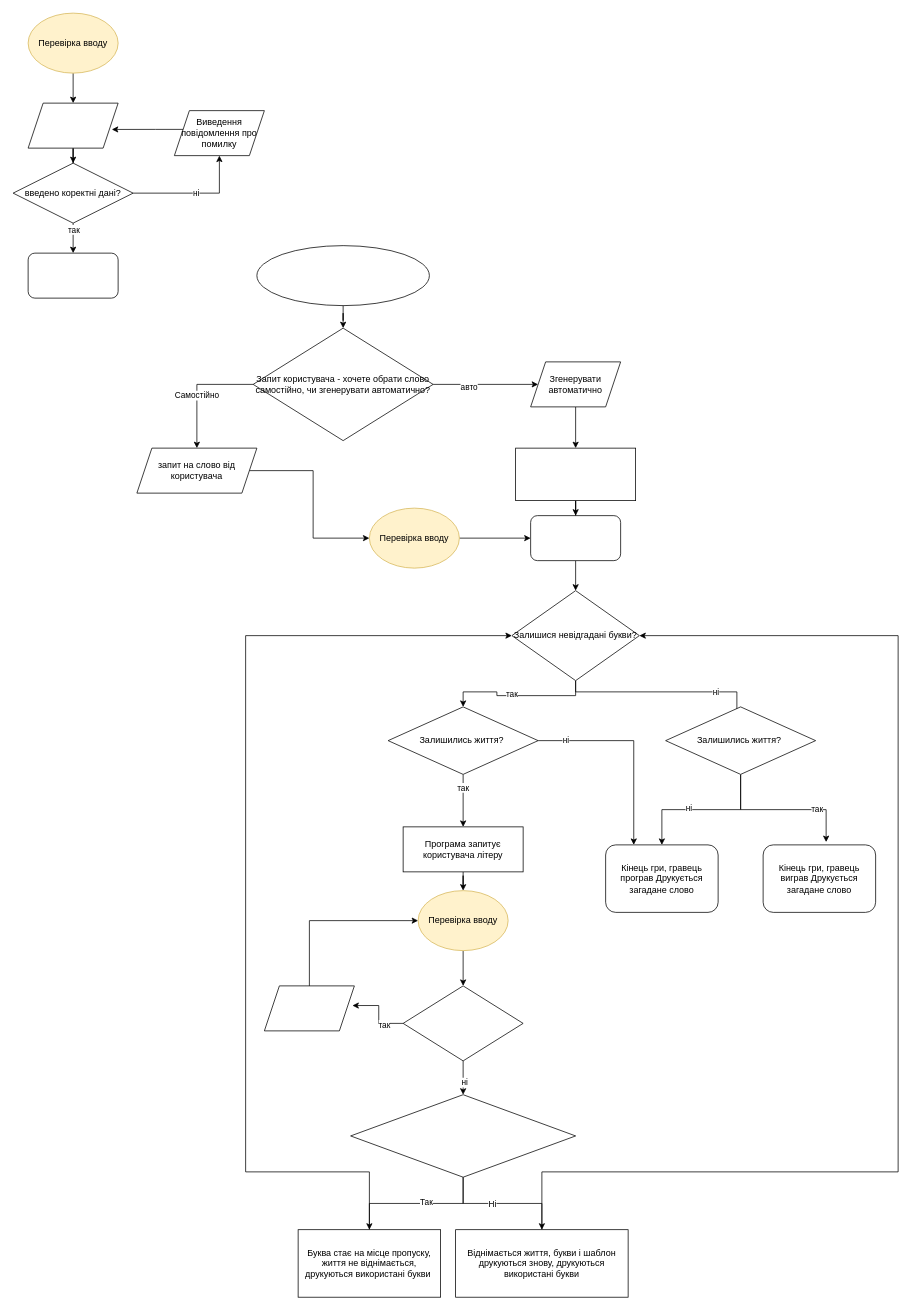
Image size: 917x1311. Some labels were removed from this diagram. Here are the shapes that lost their labels. From the top down, the centre of each, then its label:
the point at 72,125: Ввод даних користувача
the point at 72,275: продовжити виконання програми
the point at 342,275: Початок програми , аскі-арт hangman
the point at 575,474: модуль random генерує слово, друкує шаблон hangman та приховані літери
the point at 575,538: Початок гри, друкуються пусті слоти під букви
the point at 309,1008: Виводиться повідомлення про дублікат букви
the point at 462,1023: Користувач вже вводив цю букву?
the point at 463,1135: Буква є в слові?
